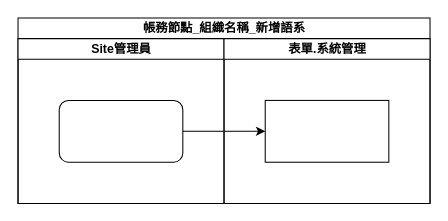
The diagram is 448 pixels wide and 221 high, and some of its shapes have lost their labels. Each missing label, with the centre of its shape:
"新增一筆 空白語系名稱" belongs at point 326,130.
"點擊按鈕.新增語系" belongs at point 120,130.
